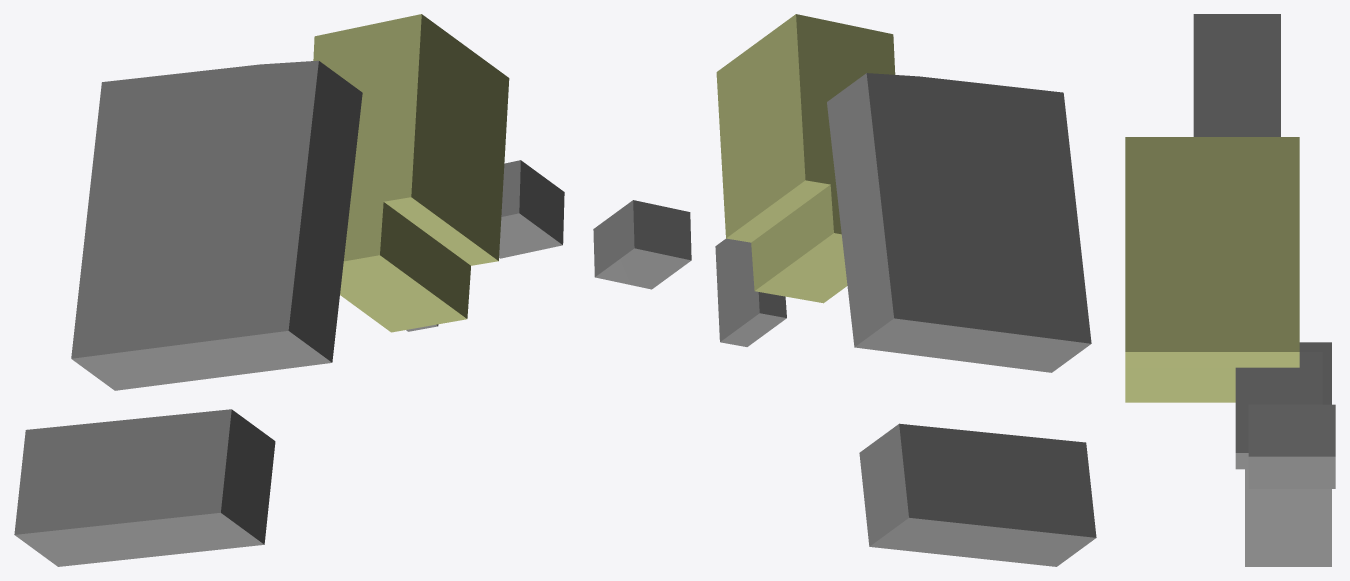
The picture shows the model from 3 angles, left to right: view 1: azimuth 30°, elevation 25°; view 2: azimuth 150°, elevation 25°; view 3: azimuth 270°, elevation 25°; orthographic projection. The views are drawn at different scales.
Parts seen in each view (by area): view 1: 0_1_2_0_0_3_2_2_2_2; view 2: 0_1_2_0_0_3_2_2_2_2; view 3: 0_1_2_0_0_3_2_2_2_2.
Part boxes in pixels (box(x1,y1,x2,y2)): 0_1_2_0_0_3_2_2_2_2: box(14, 14, 564, 566); 0_1_2_0_0_3_2_2_2_2: box(593, 14, 1096, 566); 0_1_2_0_0_3_2_2_2_2: box(1125, 14, 1335, 566).
Bounding box in the file's own units: 20.12 × 18.33 × 7.25.
